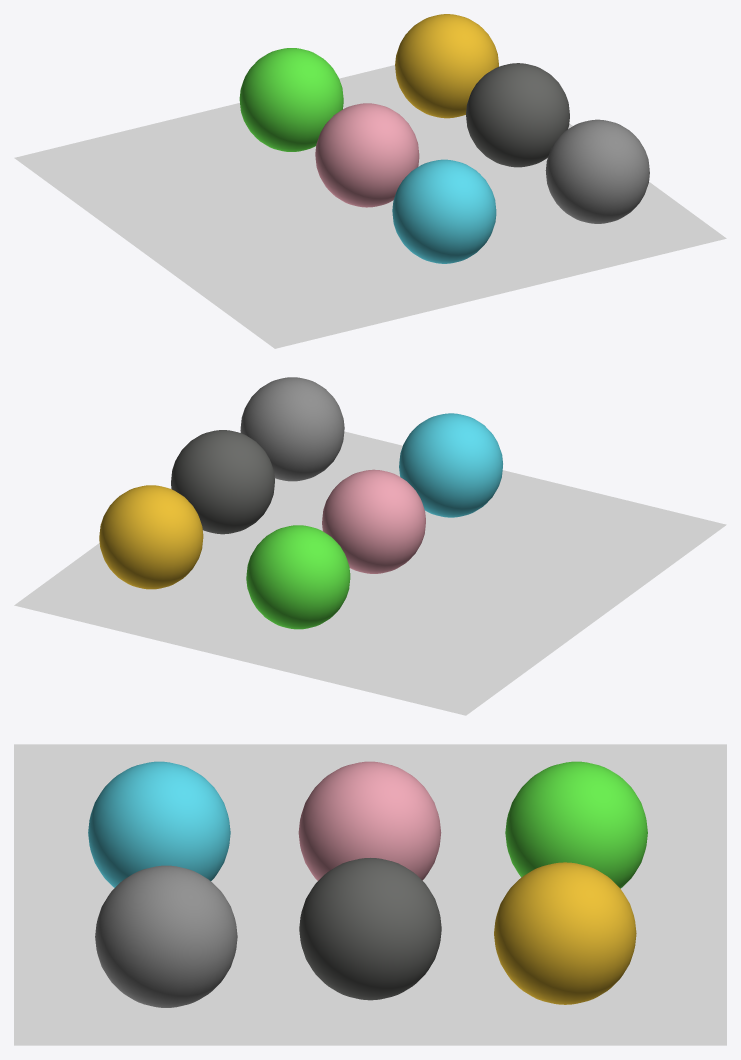
Rendered from ball.glb.
3 views of the same model, one above another, from view 1: azimuth 30°, elevation 25°; view 2: azimuth 150°, elevation 25°; view 3: azimuth 270°, elevation 25° (orthographic). The views are drawn at different scales.
Parts seen in each view (by area): view 1: Plane, Sphere.005, Sphere.002, Sphere, Sphere.003, Sphere.004, Sphere.001; view 2: Plane, Sphere.001, Sphere.004, Sphere.005, Sphere.003, Sphere, Sphere.002; view 3: Plane, Sphere.001, Sphere, Sphere.002, Sphere.005, Sphere.004, Sphere.003.
Boxes of the visible parts, bbox=[...] form: Plane: bbox=[14, 65, 726, 348]; Sphere.005: bbox=[392, 159, 496, 263]; Sphere.002: bbox=[545, 119, 649, 223]; Sphere: bbox=[466, 63, 569, 167]; Sphere.003: bbox=[315, 103, 419, 207]; Sphere.004: bbox=[239, 48, 343, 151]; Sphere.001: bbox=[395, 14, 498, 118]; Plane: bbox=[14, 431, 726, 715]; Sphere.001: bbox=[99, 485, 203, 589]; Sphere.004: bbox=[246, 525, 350, 629]; Sphere.005: bbox=[399, 413, 502, 517]; Sphere.003: bbox=[322, 469, 425, 573]; Sphere: bbox=[171, 430, 274, 534]; Sphere.002: bbox=[240, 377, 344, 481]; Plane: bbox=[14, 744, 726, 1045]; Sphere.001: bbox=[494, 862, 636, 1004]; Sphere: bbox=[299, 858, 441, 1000]; Sphere.002: bbox=[95, 865, 237, 1007]; Sphere.005: bbox=[88, 761, 230, 887]; Sphere.004: bbox=[505, 761, 647, 888]; Sphere.003: bbox=[298, 761, 441, 880].
Bounding box in the file's own units: 10 × 2.07 × 10.
